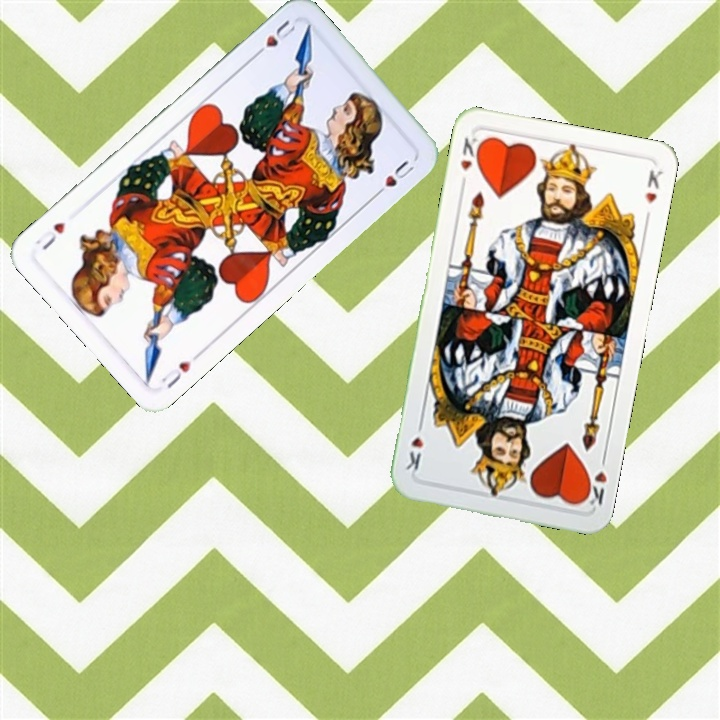HK: (456, 132, 485, 190), (579, 466, 610, 510)
HU: (249, 15, 299, 61), (157, 356, 194, 392)
